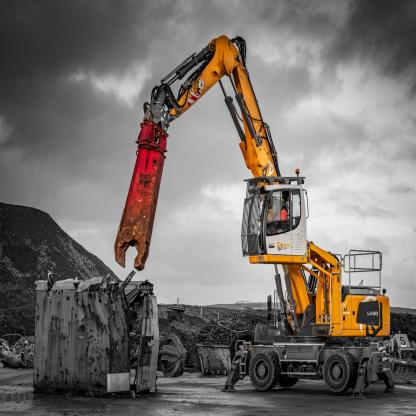excavator: (103, 20, 397, 404)
